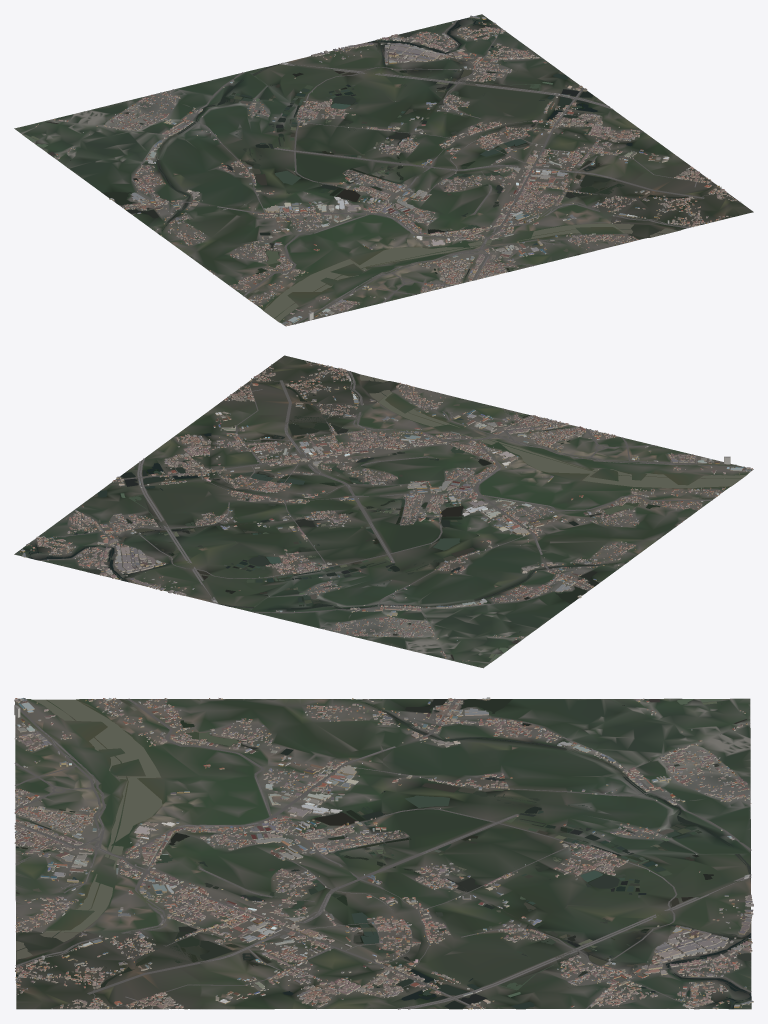
3 renders of one model, top to bottom at view 1: azimuth 30°, elevation 25°; view 2: azimuth 150°, elevation 25°; view 3: azimuth 270°, elevation 25°, orthographic. The views are drawn at different scales.
Visible parts, largest first — view 1: ground, buildings, water, roads; view 2: ground, buildings, water, roads; view 3: ground, buildings, water, roads.
Part boxes in pixels (bbox=[...]): ground: bbox=[14, 14, 753, 326]; buildings: bbox=[35, 15, 741, 325]; water: bbox=[22, 18, 703, 321]; roads: bbox=[51, 20, 721, 324]; ground: bbox=[14, 355, 753, 668]; buildings: bbox=[20, 360, 752, 661]; water: bbox=[21, 367, 746, 662]; roads: bbox=[34, 363, 744, 659]; ground: bbox=[15, 698, 751, 1009]; buildings: bbox=[14, 697, 753, 1009]; water: bbox=[15, 699, 751, 1009]; roads: bbox=[14, 698, 751, 1009].
Size of the model in its own units: 5626 by 86.11 by 5643.
